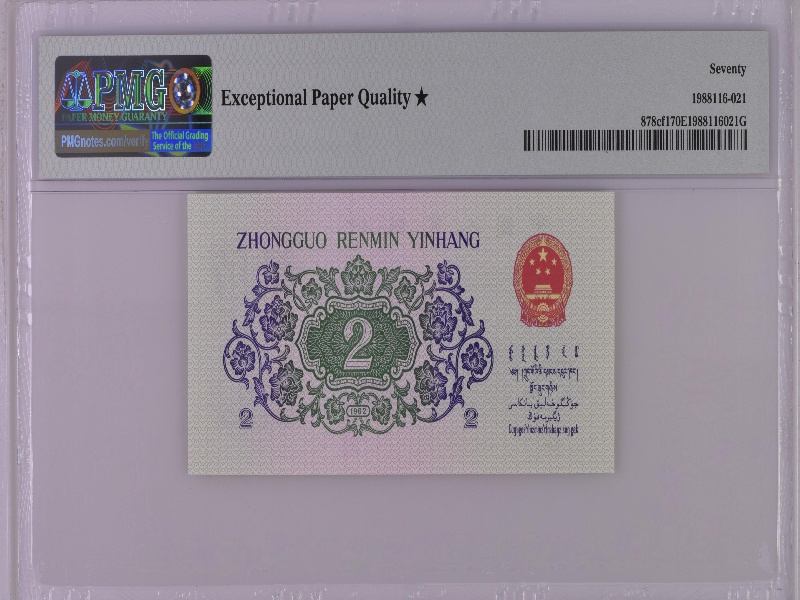papernote: (185, 191, 618, 476)
